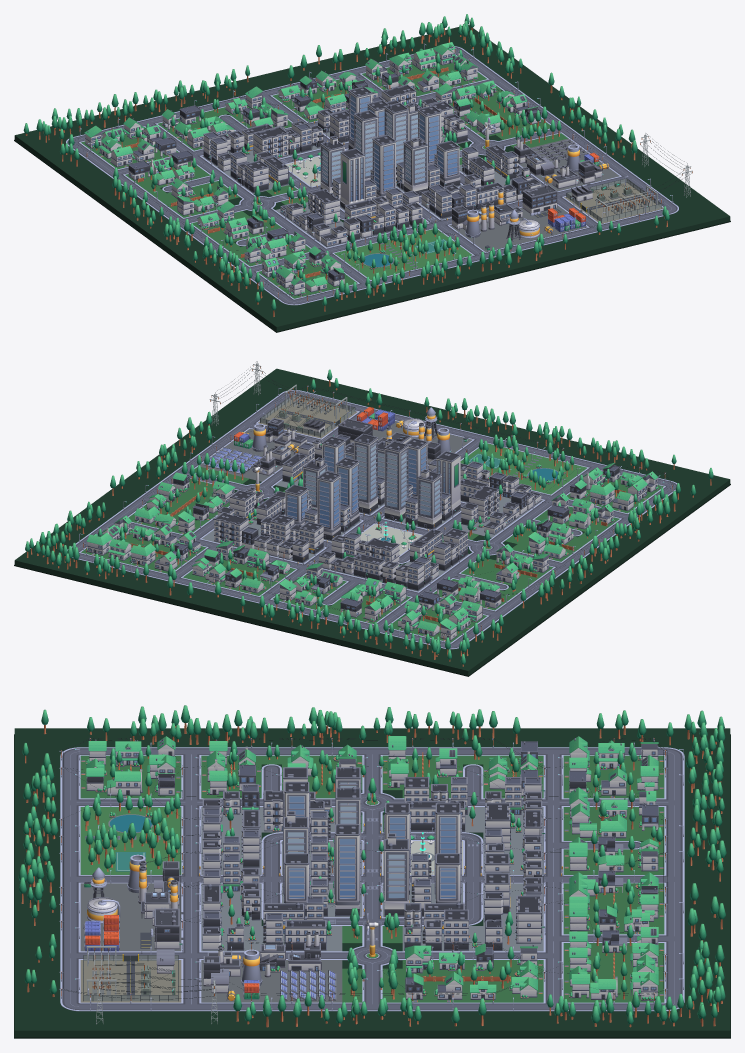
The model's file is energy_city.glb.
3 views of the same model, one above another, from view 1: azimuth 30°, elevation 25°; view 2: azimuth 150°, elevation 25°; view 3: azimuth 270°, elevation 25° (orthographic). The views are drawn at different scales.
Parts seen in each view (by area): view 1: TERRAIN_base, park_south_ground, ind_yard_ground, substation_ground, core_sw_tower_3, core_sw_tower_2, core_se_tower_1, core_sw_tower_0, core_se_tower_0, core_se_tower_2, core_sw_tower_1, ind_east_ground (+23 smaller); view 2: TERRAIN_base, core_sw_tower_0, park_south_ground, core_se_tower_0, core_ne_tower_1, core_sw_tower_1, substation_ground, core_ne_tower_0, core_sw_tower_3, res_ne_ground, mid_n_e_building-j_09, res_n3_ground (+23 smaller); view 3: TERRAIN_base, park_south_ground, substation_ground, ind_yard_ground, res_ne_ground, core_se_tower_2, res_n4_ground, ind_east_ground, grid_cables, core_ne_tower_2, res_n3_ground, res_w6_ground (+63 smaller).
Part boxes in pixels (x1,y1,x2,y2): TERRAIN_base: (14, 24, 730, 332); park_south_ground: (334, 229, 472, 279); ind_yard_ground: (449, 205, 587, 251); substation_ground: (564, 182, 663, 223); core_sw_tower_3: (340, 148, 364, 209); core_sw_tower_2: (372, 135, 396, 197); core_se_tower_1: (403, 138, 427, 195); core_sw_tower_0: (353, 110, 378, 180); core_se_tower_0: (384, 102, 408, 182); core_se_tower_2: (417, 105, 441, 164); core_sw_tower_1: (320, 135, 345, 192); ind_east_ground: (518, 138, 619, 191); TERRAIN_base: (14, 368, 730, 676); core_sw_tower_0: (384, 441, 408, 521); park_south_ground: (460, 443, 587, 494); core_se_tower_0: (353, 433, 378, 514); core_ne_tower_1: (317, 471, 341, 540); core_sw_tower_1: (417, 469, 442, 529); substation_ground: (258, 397, 357, 438); core_ne_tower_0: (335, 457, 359, 527); core_sw_tower_3: (436, 451, 460, 515); res_ne_ground: (128, 485, 229, 534); mid_n_e_building-j_09: (214, 512, 248, 546); res_n3_ground: (183, 554, 295, 595); TERRAIN_base: (14, 728, 730, 1038); park_south_ground: (80, 807, 181, 874); substation_ground: (80, 960, 181, 1002); ind_yard_ground: (80, 883, 181, 951); res_ne_ground: (402, 960, 543, 1002); core_se_tower_2: (334, 824, 361, 916); res_n4_ground: (563, 943, 664, 1002); ind_east_ground: (201, 960, 342, 1002); grid_cables: (60, 737, 667, 995); core_ne_tower_2: (383, 833, 409, 916); res_n3_ground: (563, 883, 664, 934); res_w6_ground: (563, 755, 664, 798).
Bounding box in the file's own units: 64.11 × 10.64 × 64.11.
27 materials, 5 textured.
